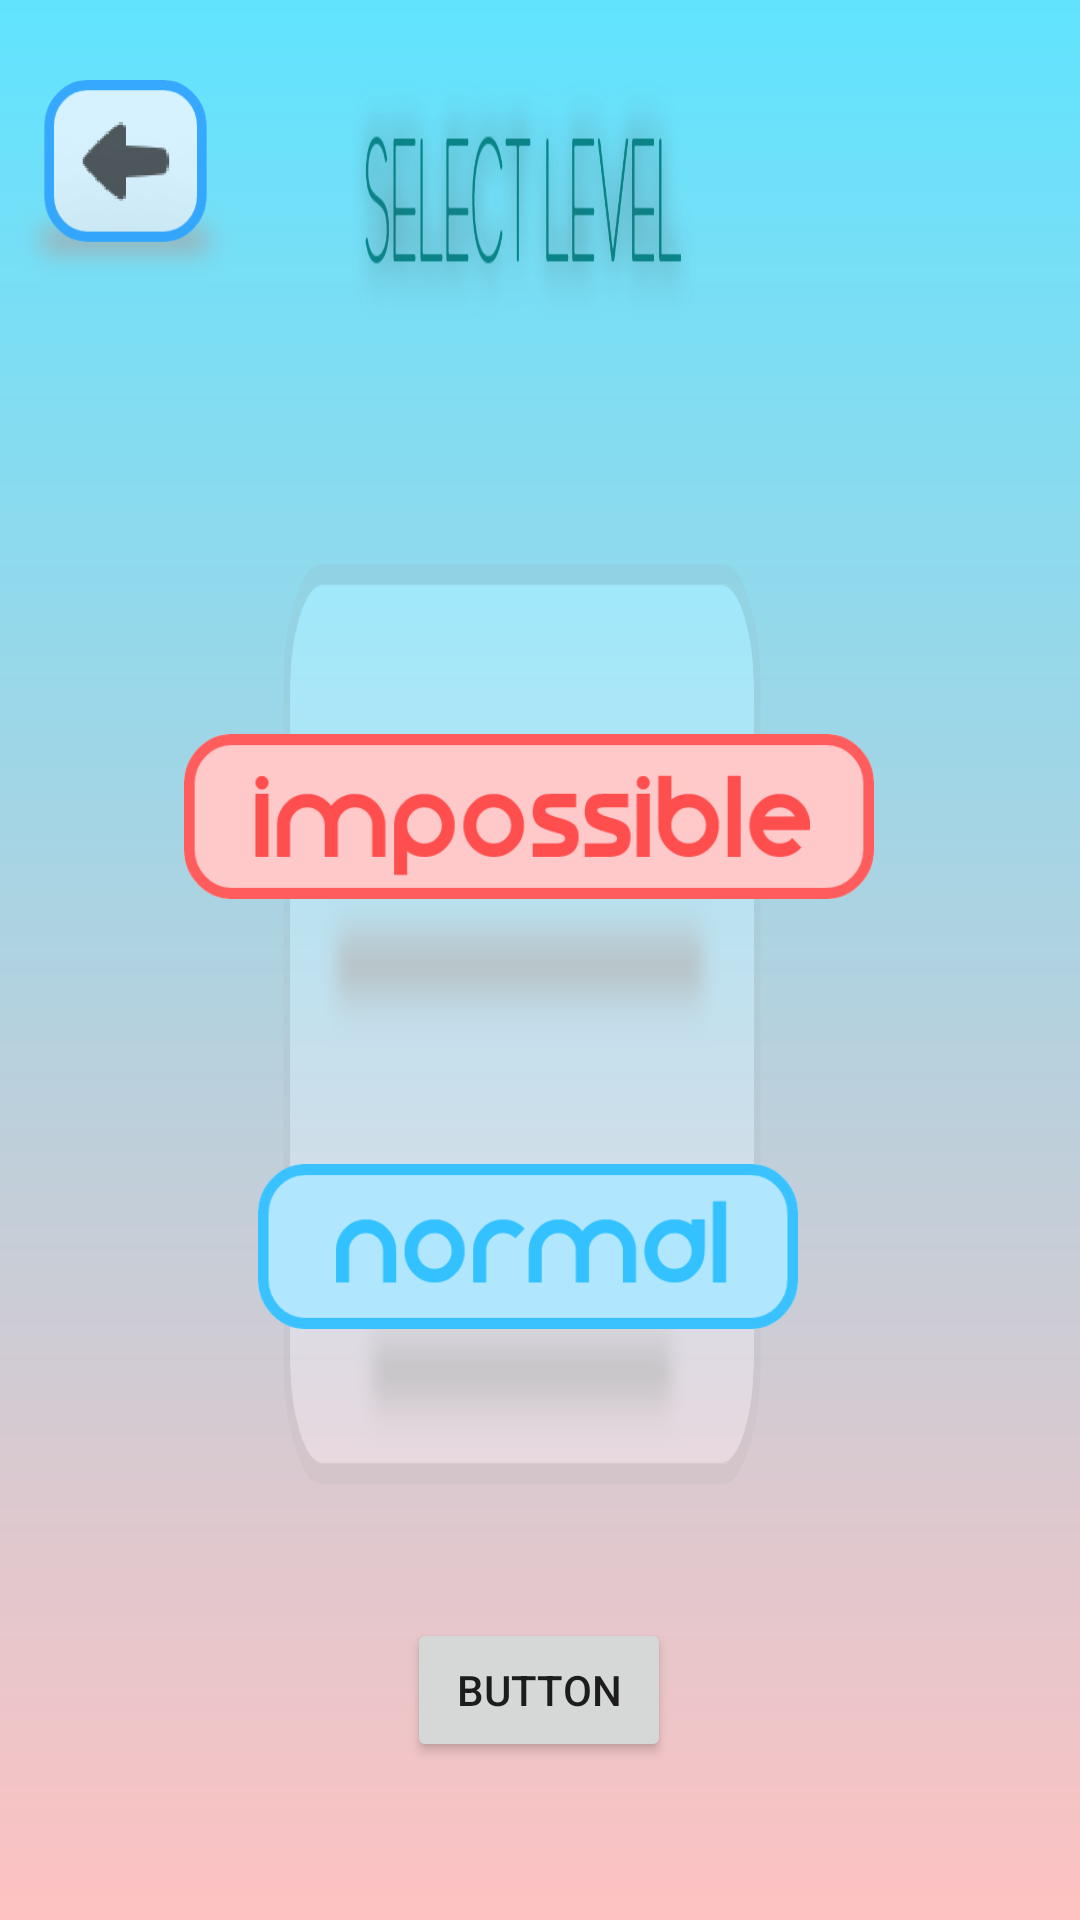

Screen size 1080*1920. Icon name, then its center in pixels as point (x, y):
back click: point (125, 168)
